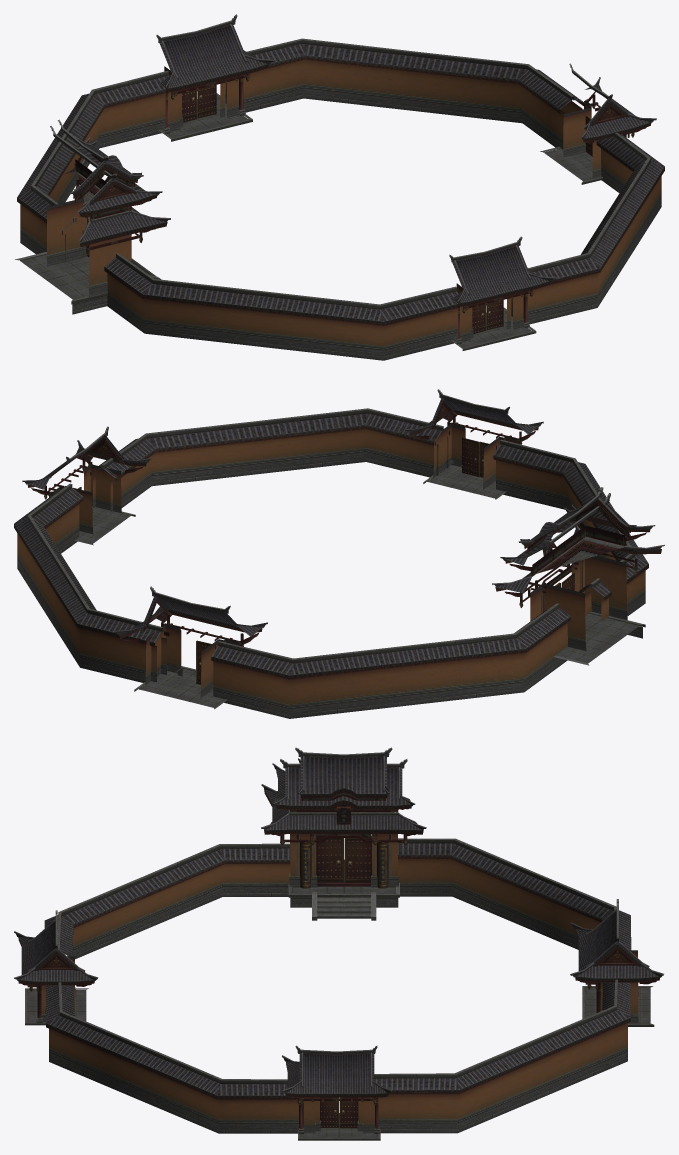
The model's file is fb_shaoshishan_siyuan.FBX.
The picture shows the model from 3 angles, top to bottom: view 1: azimuth 30°, elevation 25°; view 2: azimuth 150°, elevation 25°; view 3: azimuth 270°, elevation 25°; orthographic projection. The views are drawn at different scales.
Parts seen in each view (by area): view 1: fb_shaoshishan_siyuan; view 2: fb_shaoshishan_siyuan; view 3: fb_shaoshishan_siyuan.
Part boxes in pixels (bbox=[...]): fb_shaoshishan_siyuan: bbox=[15, 14, 664, 360]; fb_shaoshishan_siyuan: bbox=[14, 389, 664, 718]; fb_shaoshishan_siyuan: bbox=[14, 747, 663, 1140].
Size of the model in its own units: 3733 by 896 by 3682.
